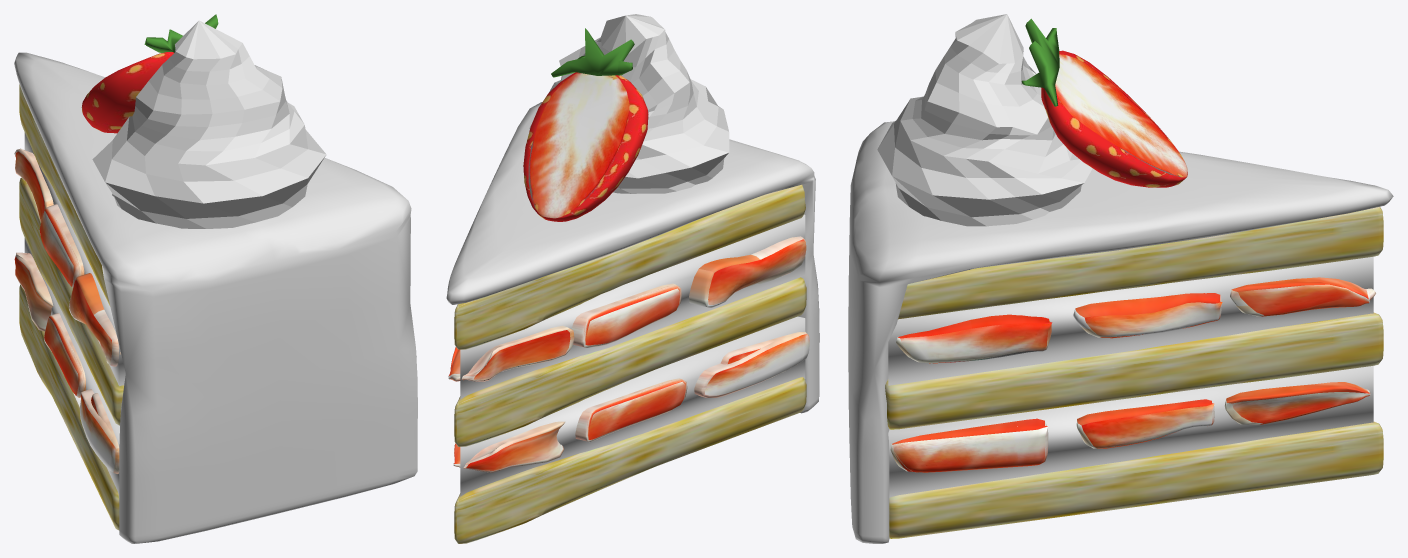
The model's file is cake slice no plate.fbx.
3 renders of one model, left to right at view 1: azimuth 30°, elevation 25°; view 2: azimuth 150°, elevation 25°; view 3: azimuth 270°, elevation 25°, orthographic. The views are drawn at different scales.
Visible parts, largest first — view 1: frosting, whipped cream, cake, strawberry, filling, Cube.006, Cube.005, Cube.002, Cube.003, Cube, Cube.004, leaf (+1 smaller); view 2: cake, frosting, filling, strawberry, whipped cream, Cube.006, Cube.005, Cube.002, Cube, Cube.004, Cube.003, leaf (+1 smaller); view 3: cake, frosting, filling, whipped cream, strawberry, Cube, Cube.006, Cube.005, Cube.002, Cube.004, Cube.003, leaf.
Boxes of the visible parts, bbox=[...] form: frosting: bbox=[14, 52, 417, 543]; whipped cream: bbox=[92, 20, 326, 228]; cake: bbox=[19, 84, 124, 530]; strawberry: bbox=[81, 52, 173, 133]; filling: bbox=[24, 132, 125, 497]; Cube.006: bbox=[69, 273, 121, 366]; Cube.005: bbox=[39, 204, 84, 287]; Cube.002: bbox=[44, 313, 85, 397]; Cube.003: bbox=[14, 252, 53, 331]; Cube: bbox=[80, 389, 119, 472]; Cube.004: bbox=[14, 148, 53, 222]; leaf: bbox=[144, 14, 218, 52]; cake: bbox=[454, 184, 806, 543]; frosting: bbox=[446, 102, 819, 413]; filling: bbox=[460, 214, 805, 496]; strawberry: bbox=[523, 72, 648, 221]; whipped cream: bbox=[529, 14, 729, 193]; Cube.006: bbox=[689, 236, 806, 307]; Cube.005: bbox=[571, 283, 681, 347]; Cube.002: bbox=[575, 378, 687, 441]; Cube: bbox=[694, 334, 808, 397]; Cube.004: bbox=[448, 325, 574, 381]; Cube.003: bbox=[453, 421, 565, 472]; leaf: bbox=[551, 28, 634, 77]; cake: bbox=[885, 206, 1383, 538]; frosting: bbox=[848, 121, 1393, 543]; filling: bbox=[888, 256, 1373, 497]; whipped cream: bbox=[877, 14, 1092, 226]; strawberry: bbox=[1041, 50, 1187, 187]; Cube: bbox=[890, 418, 1048, 472]; Cube.006: bbox=[896, 314, 1052, 363]; Cube.005: bbox=[1073, 293, 1222, 338]; Cube.002: bbox=[1076, 399, 1214, 448]; Cube.004: bbox=[1230, 277, 1375, 316]; Cube.003: bbox=[1224, 382, 1370, 424]; leaf: bbox=[1021, 18, 1059, 106].
Size of the model in its own units: 210 by 293 by 313.
